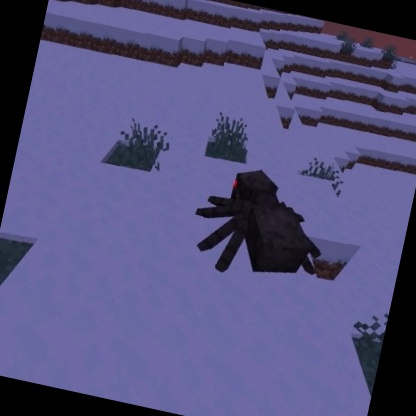spider: (180, 155, 339, 295)
